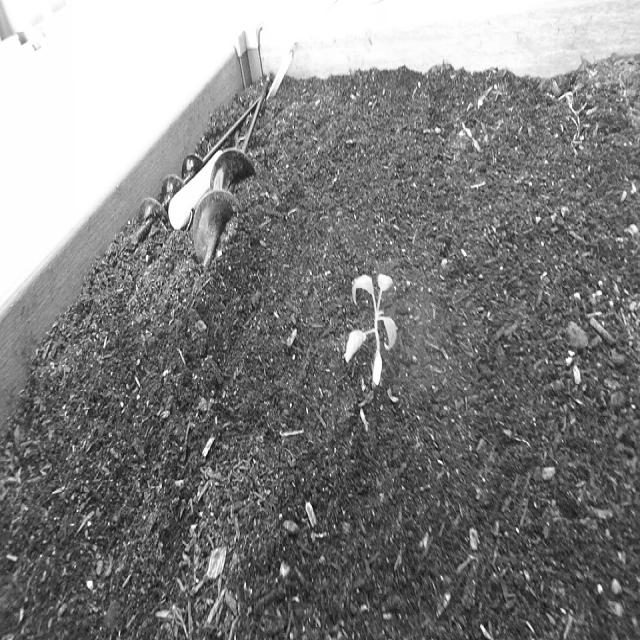Healthy: (343, 269, 402, 392)
